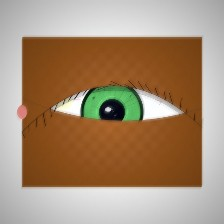pinguecula_lesion: (44, 87, 82, 118)
